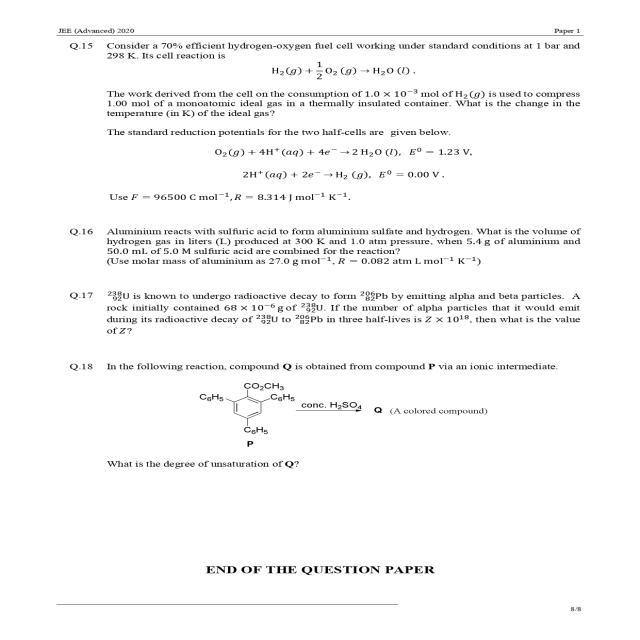Question_Answer_Block: (49, 38, 607, 210), (49, 356, 607, 488), (49, 284, 607, 349), (49, 216, 607, 277)
Question_Block: (49, 38, 607, 210), (49, 356, 607, 488), (49, 284, 607, 349), (49, 216, 607, 277)
Question_Paper_Area: (49, 38, 607, 544)
